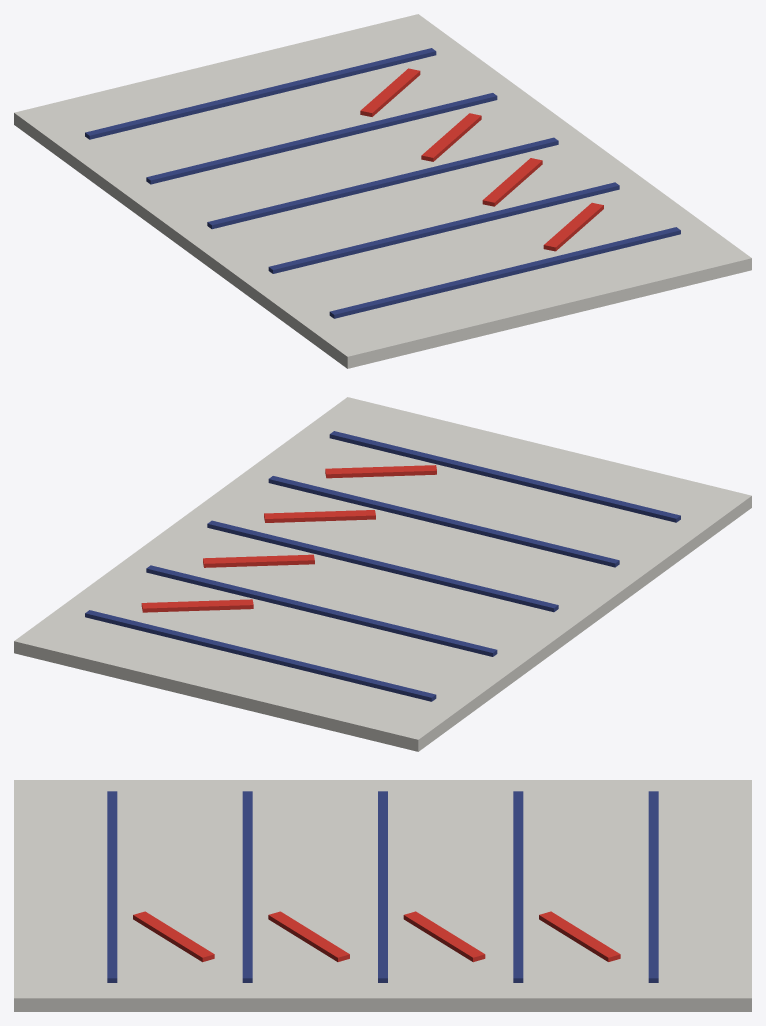
Rendered from bowl_fake_scores.glb.
3 renders of one model, top to bottom at view 1: azimuth 30°, elevation 25°; view 2: azimuth 150°, elevation 25°; view 3: azimuth 270°, elevation 25°, orthographic. The views are drawn at different scales.
Parts seen in each view (by area): view 1: sheet_paper, rows_ink_blue (×5), crossed_ink_red; view 2: sheet_paper, rows_ink_blue (×5), crossed_ink_red; view 3: sheet_paper, rows_ink_blue (×5), crossed_ink_red.
Part boxes in pixels (x1,y1,x2,y2): sheet_paper: [14, 14, 751, 368]; rows_ink_blue (×5): [85, 48, 680, 318]; crossed_ink_red: [360, 68, 603, 251]; sheet_paper: [14, 397, 751, 751]; rows_ink_blue (×5): [85, 431, 680, 701]; crossed_ink_red: [141, 465, 436, 612]; sheet_paper: [14, 780, 751, 1011]; rows_ink_blue (×5): [107, 791, 658, 982]; crossed_ink_red: [133, 911, 620, 962].
Size of the model in its own units: 0.21 by 0.009 by 0.3.
